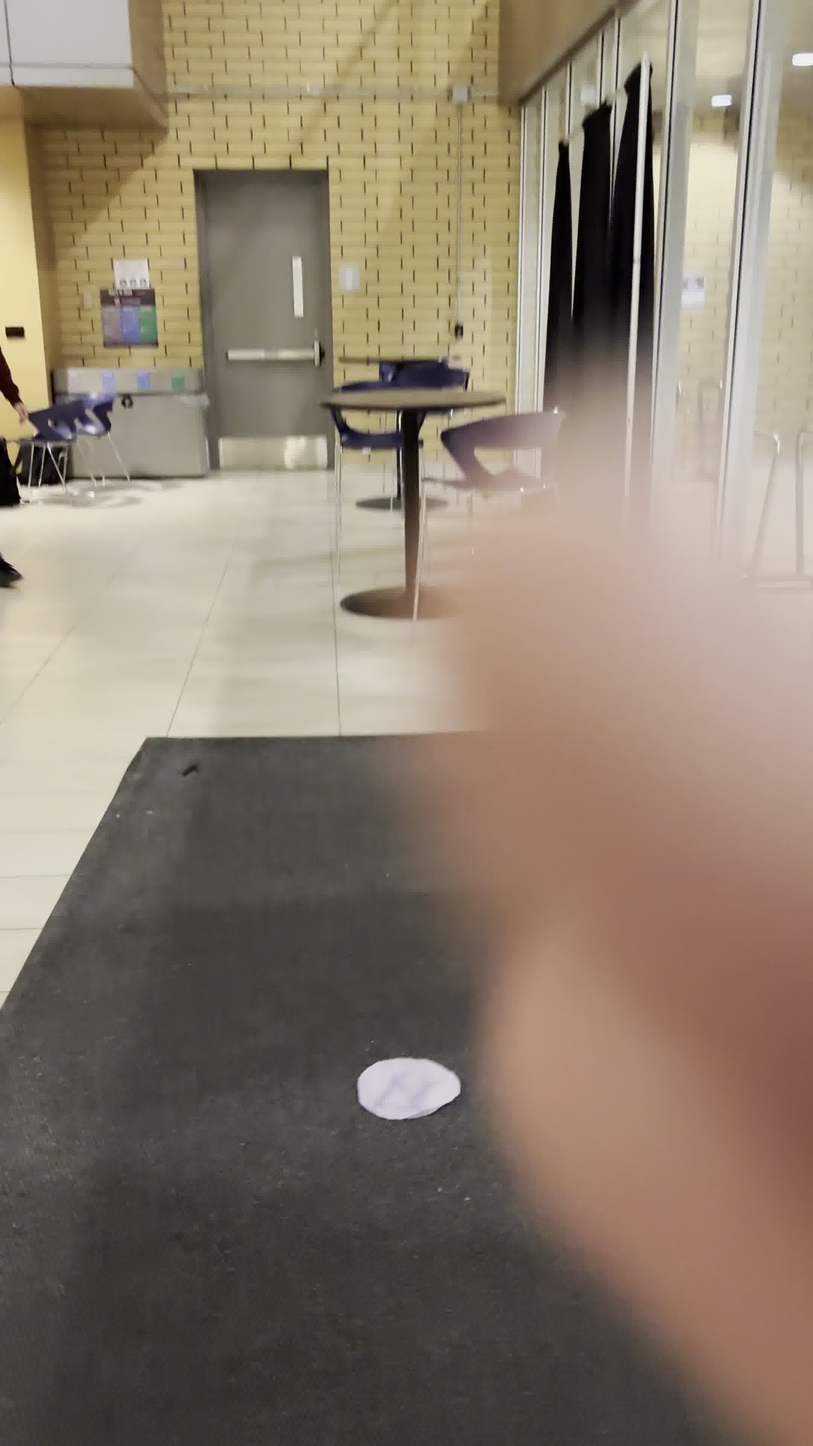Target: (351, 1053, 467, 1125)
